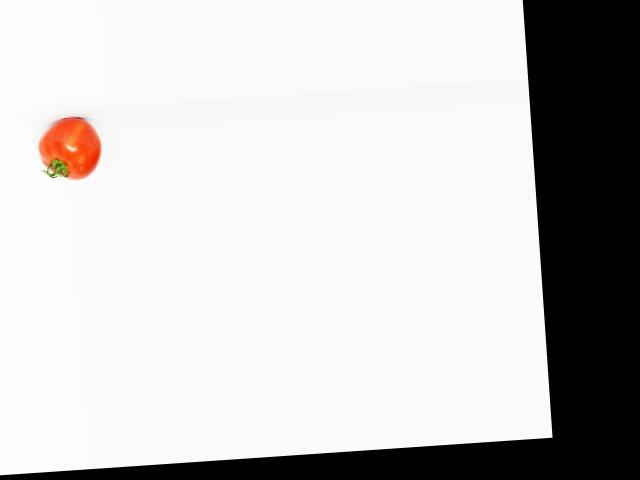tomato: (37, 115, 103, 183)
